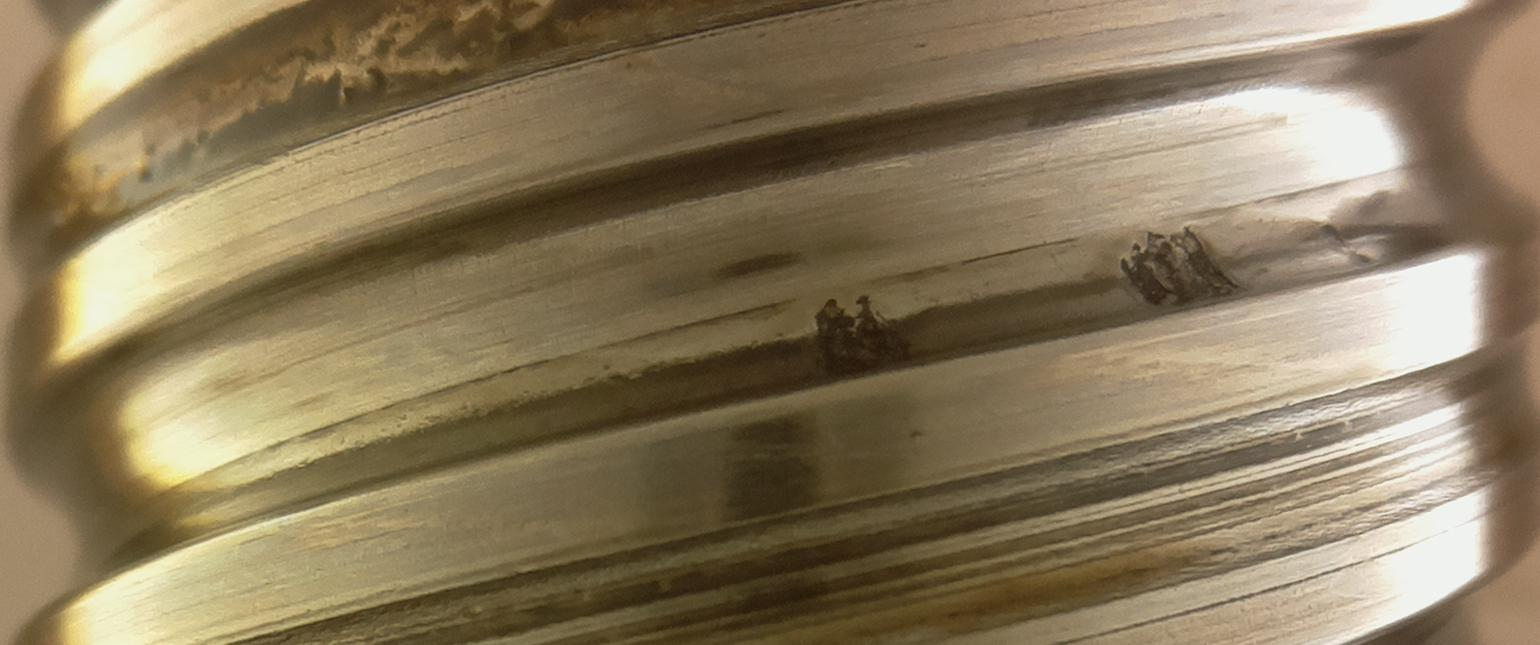pitting: (1120, 225, 1241, 306), (813, 295, 911, 378)
